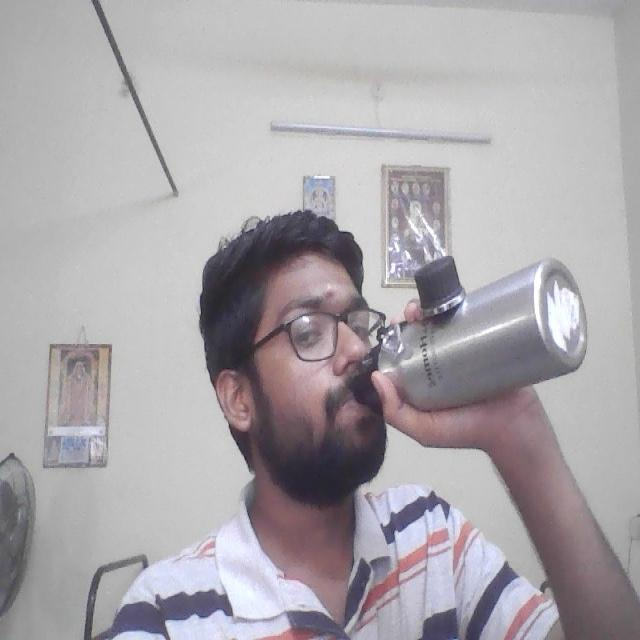Drinking: (367, 256, 598, 413)
